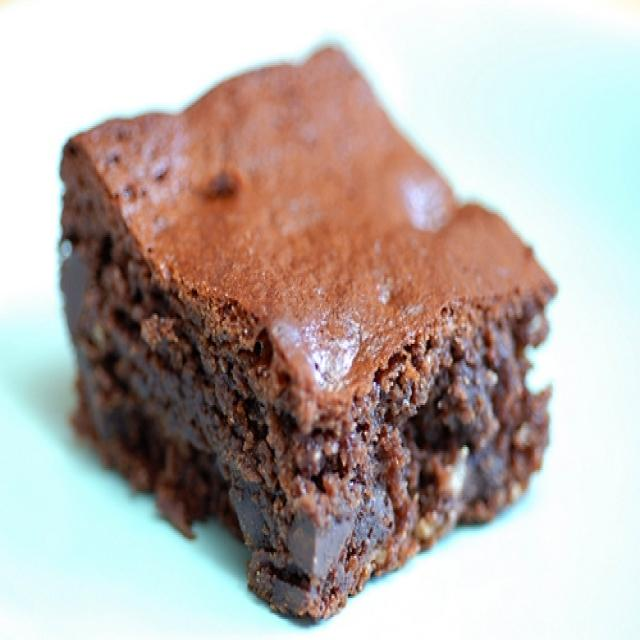蛋糕甜品: (54, 50, 576, 608)
